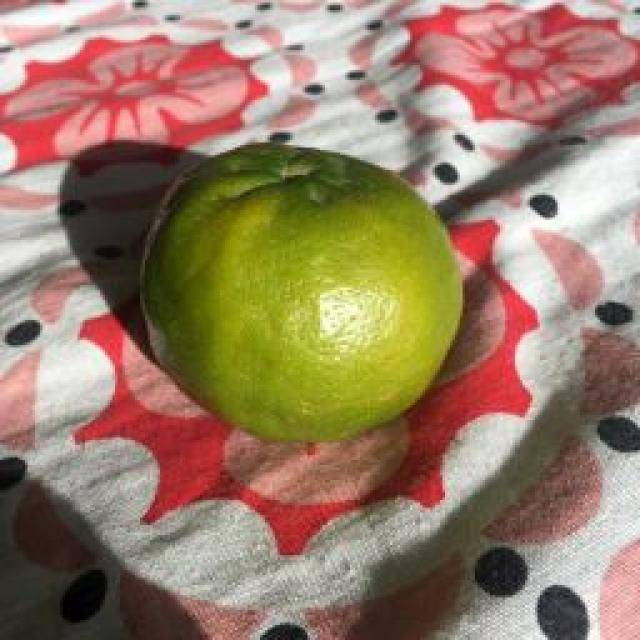Good_Orange: (135, 145, 465, 445)
